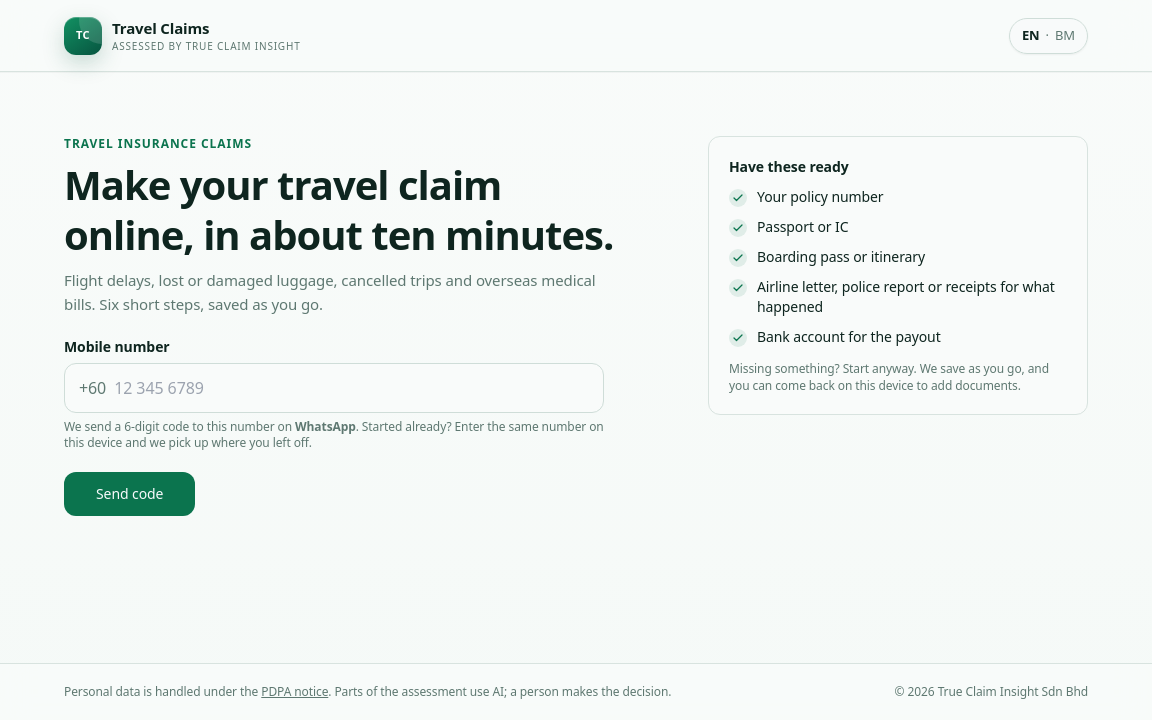
Scenario: the mobile number field › asks for a number rather than doing nothing when the field is empty
Expected: the field labelled "Mobile number" is shown, [114, 364, 589, 412]
Click the button "Send code" at (130, 494), box [64, 472, 195, 516]
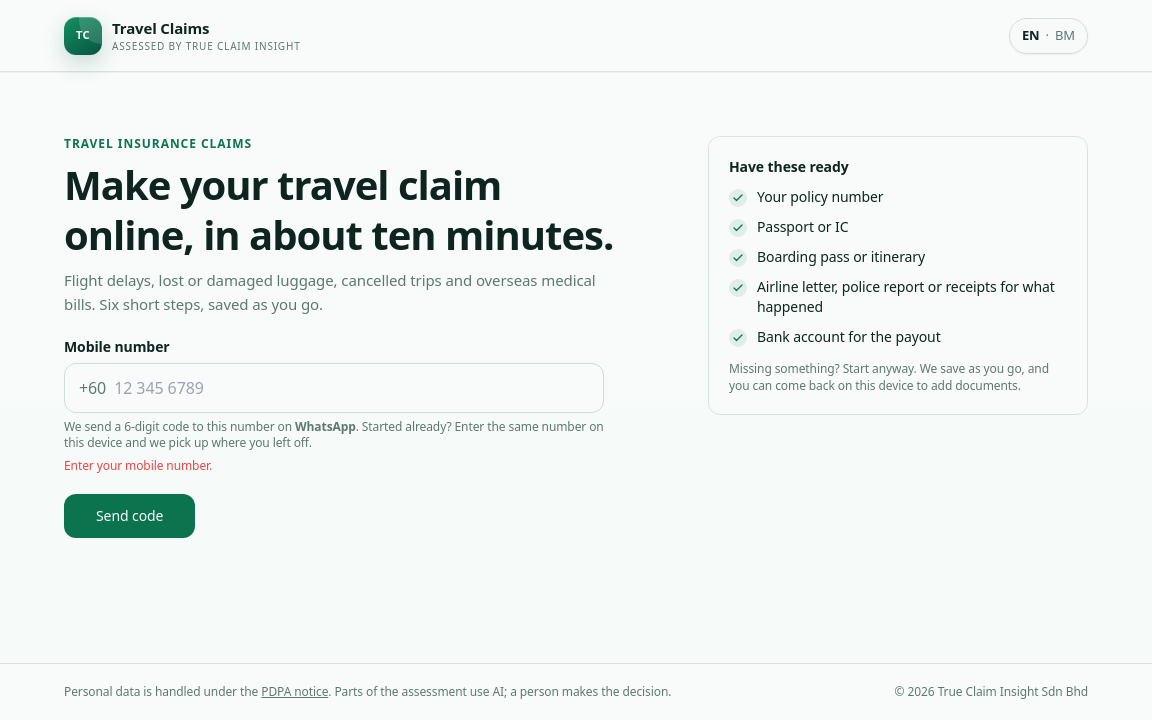
Now the message reads "Enter your mobile number.", box [64, 457, 212, 474]
